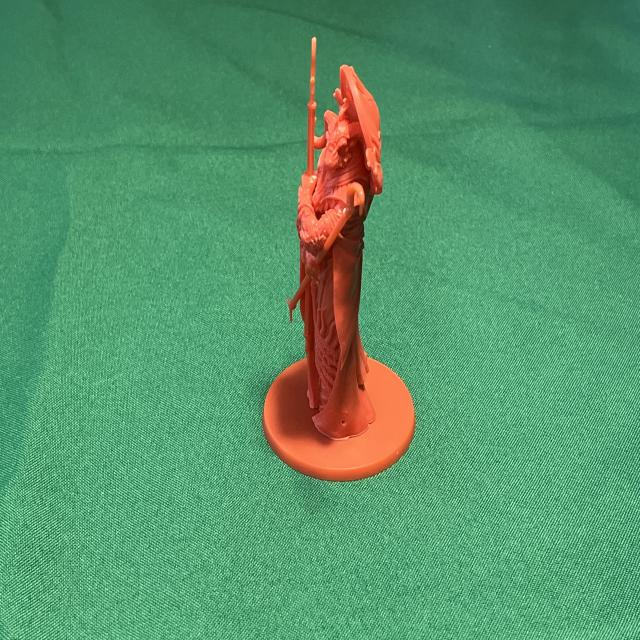amon: (255, 30, 422, 491)
